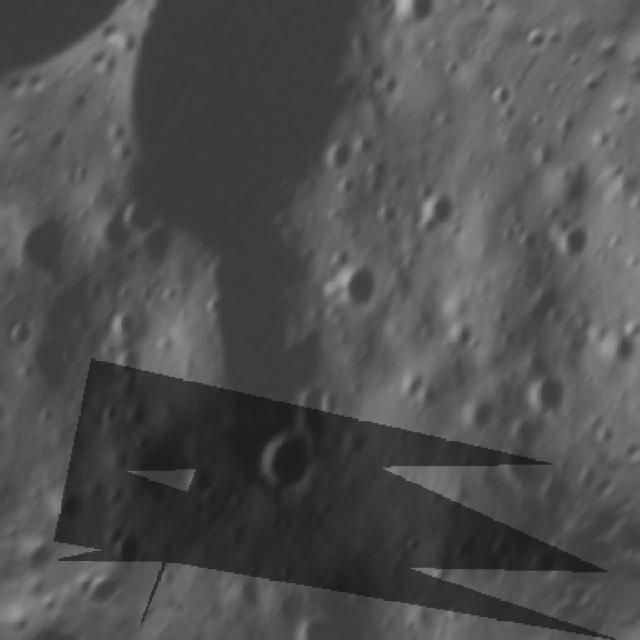crater: (243, 418, 320, 496), (274, 372, 348, 442), (399, 177, 464, 254), (511, 360, 580, 426), (372, 0, 442, 46), (102, 517, 160, 572), (335, 258, 382, 312), (286, 604, 344, 640), (547, 216, 590, 262), (93, 300, 139, 343), (474, 68, 518, 110), (85, 393, 126, 433), (389, 521, 429, 559), (0, 314, 37, 355), (122, 195, 160, 234), (316, 137, 353, 175), (108, 346, 138, 374), (0, 392, 11, 437), (637, 260, 640, 334)
